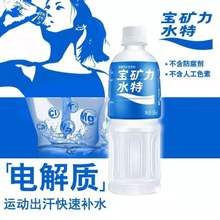POCARI SWEAT: (110, 25, 162, 191)
